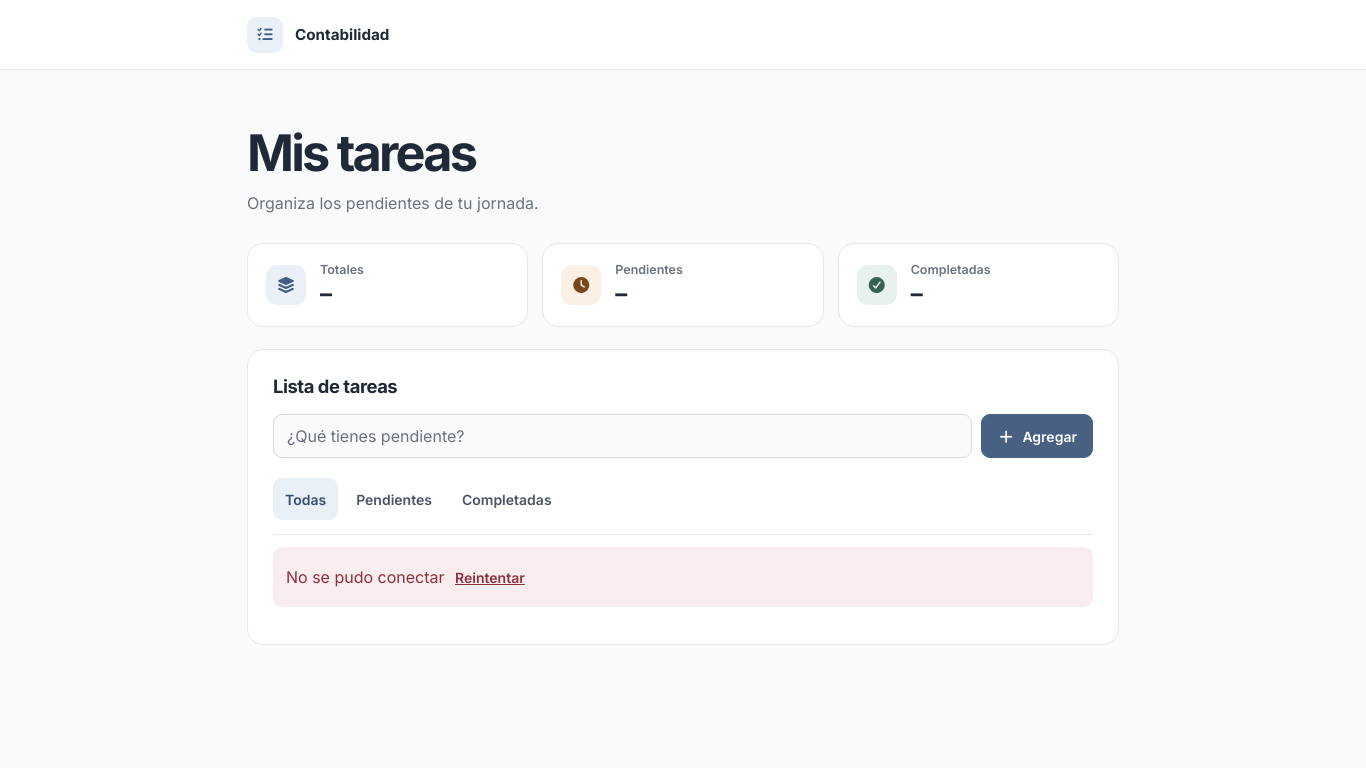
Scenario: permite recuperar la lista después de un error
expect the message shows "No se pudo conectar": met, box [286,566,444,586]
Click the button "Reintentar".
click(490, 577)  # box [449,556,531,598]
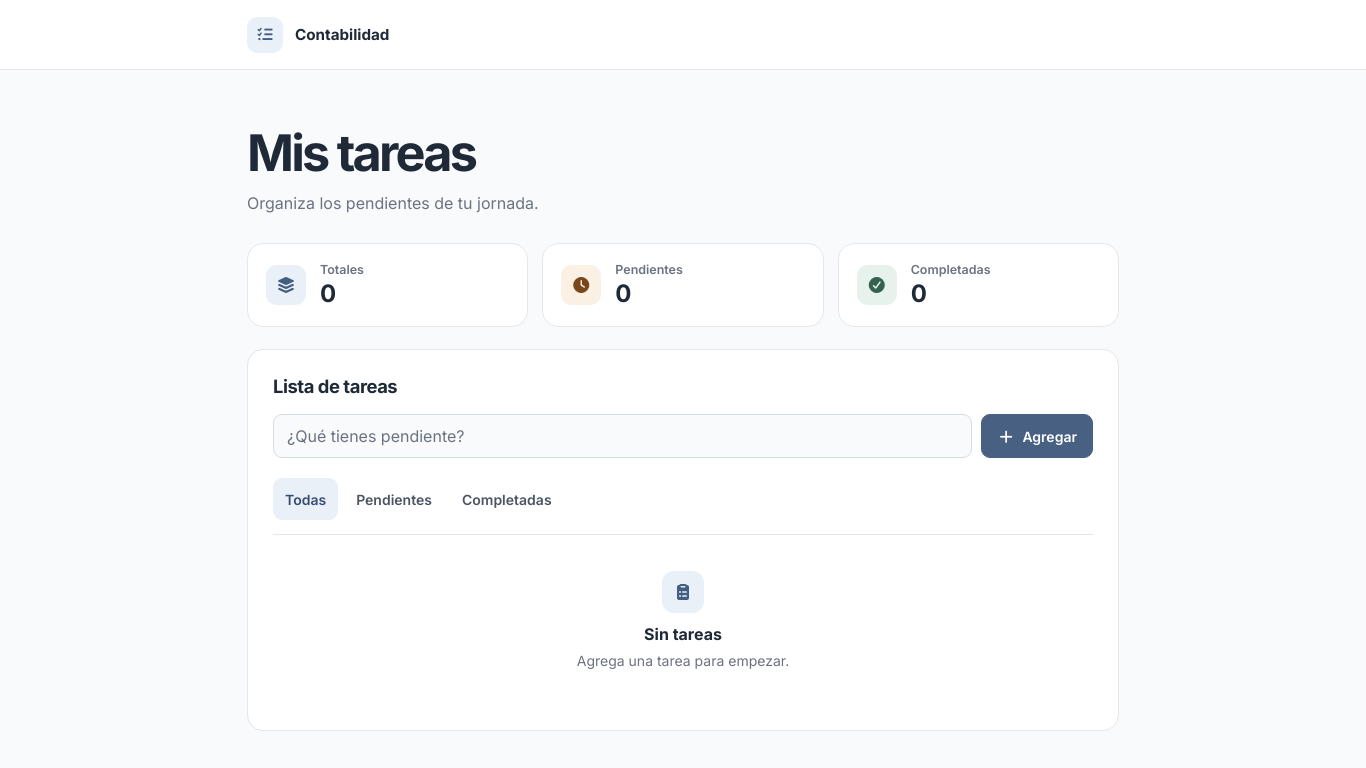
expect the message "No se pudo conectar Reintentar" is gone: met
expect the text "Agrega una tarea para empezar." is shown: met, box [577,652,789,669]
